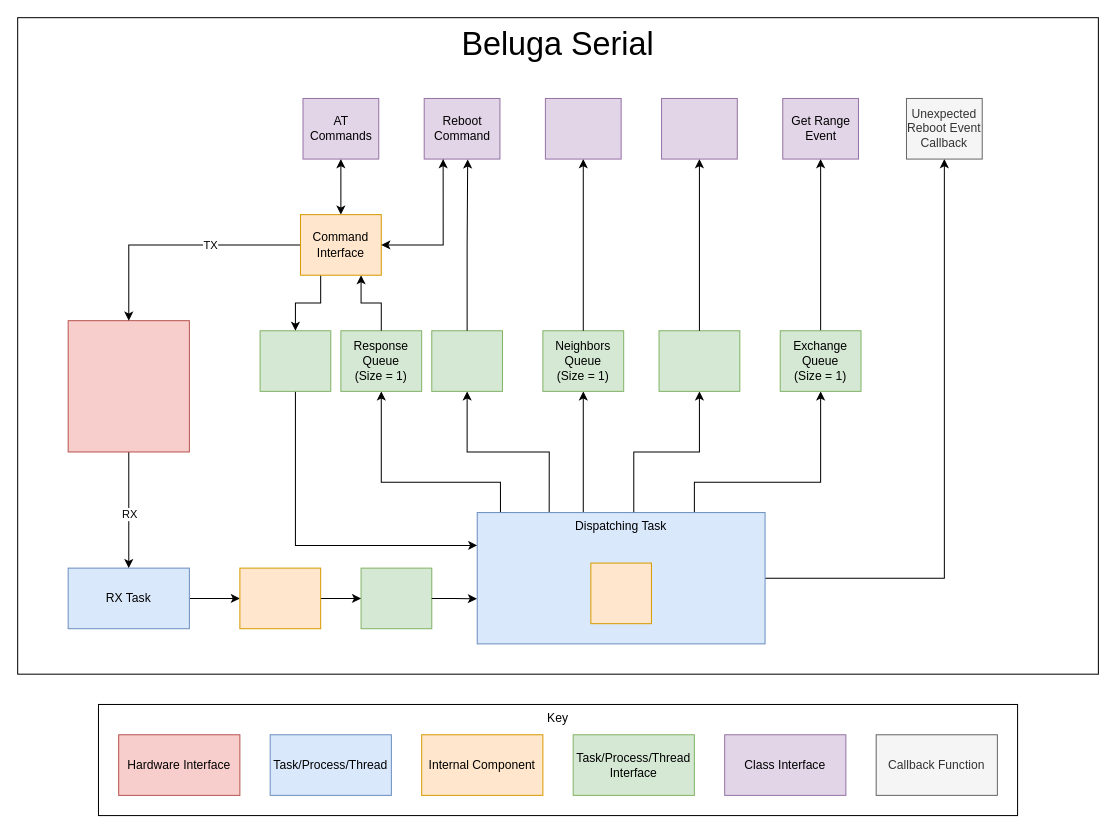
Some shapes in this 1116 by 833 pixel diagram are drawn without their labels. The centre of each missing label's shape, as x and y in pixels:
"Beluga USB" goes at pixel 128 386.
"Command Sent Event" goes at pixel 295 360.
"Frame Parsing" goes at pixel 280 598.
"Get Neighbors" goes at pixel 582 128.
"Get Ranges" goes at pixel 699 128.
"Neighbors List" goes at pixel 620 593.
"Ranges Queue (Size = 1)" goes at pixel 699 360.
"Reboot Done Event" goes at pixel 466 360.
"RX Batch Queue (Size = 10)" goes at pixel 396 598.
